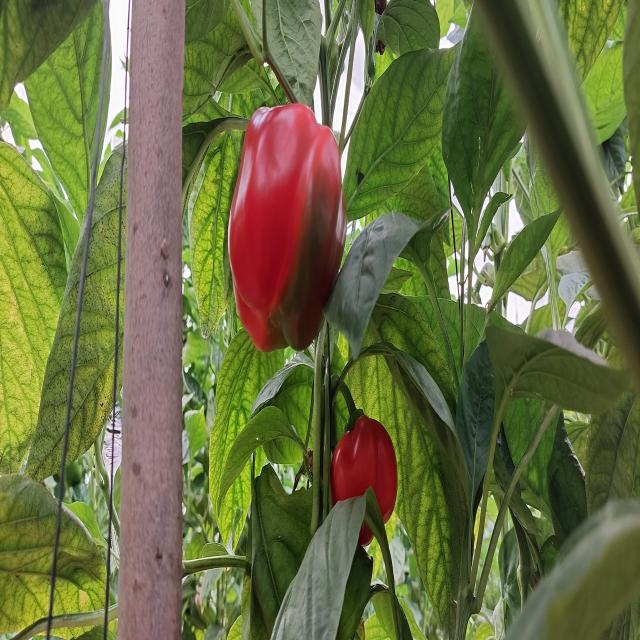Red-Ready-to-Harvest: (226, 95, 346, 346), (333, 424, 399, 545)
